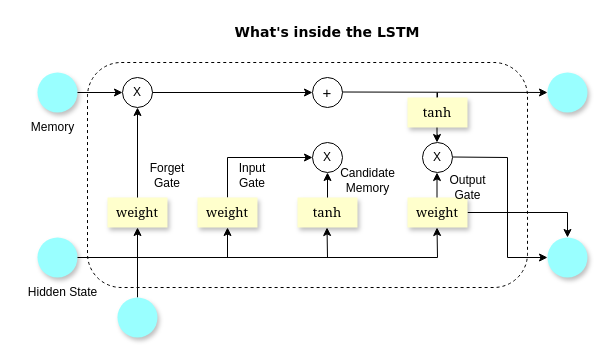
Some shapes in this 610 by 361 pixel diagram are drawn without their labels. Each missing label, with the centre of its shape:
C t: point (58, 93)
C t+1: point (568, 93)
h t: point (58, 258)
h t+1: point (568, 258)
x t: point (138, 318)
